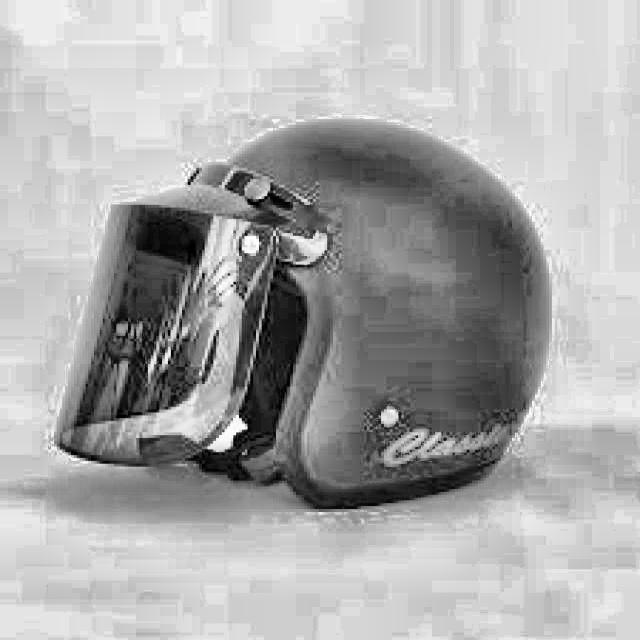Helmet: (60, 122, 556, 510)
